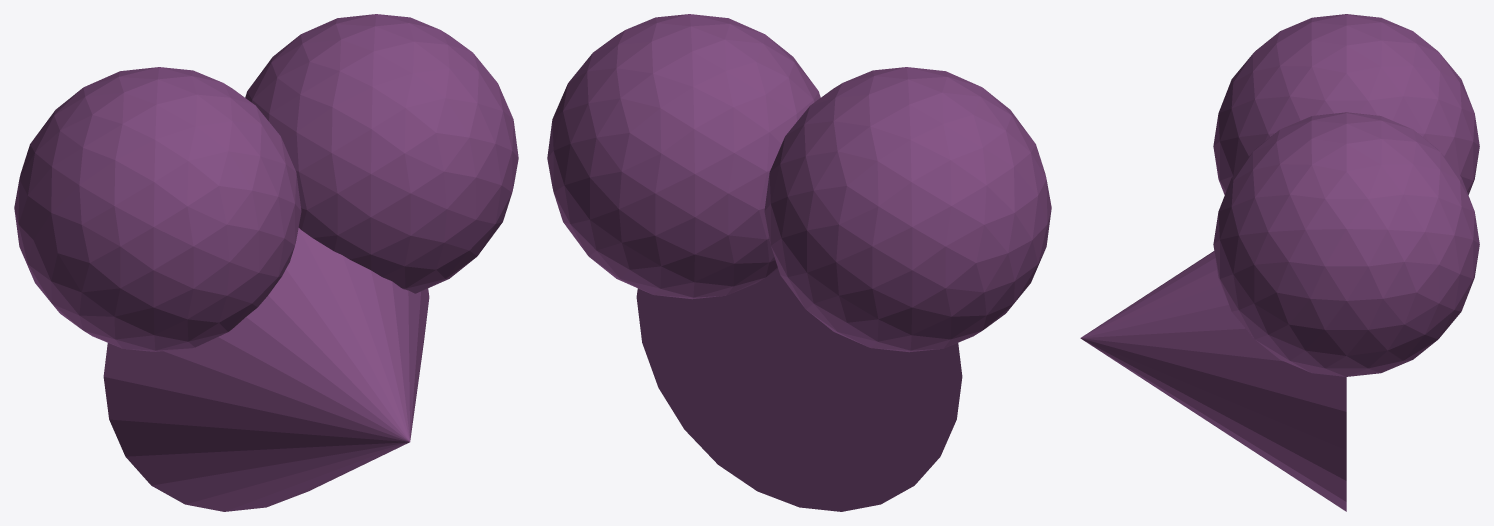
File: love_007.glb
The picture shows the model from 3 angles, left to right: view 1: azimuth 30°, elevation 25°; view 2: azimuth 150°, elevation 25°; view 3: azimuth 270°, elevation 25°; orthographic projection. The views are drawn at different scales.
Visible parts, largest first — view 1: world; view 2: world; view 3: world.
Part boxes in pixels (bbox=[...]): world: bbox=[14, 14, 518, 511]; world: bbox=[547, 14, 1051, 511]; world: bbox=[1080, 14, 1479, 511].
Size of the model in its own units: 2.06 by 1.92 by 1.65.
